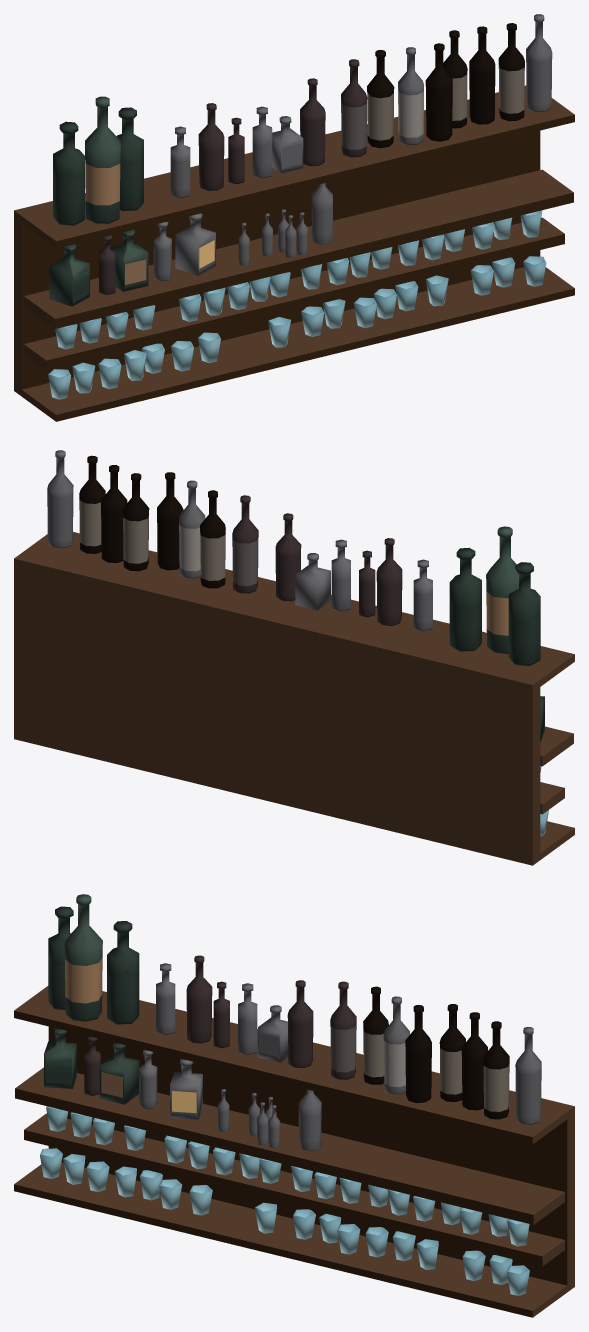
Rendered from Furnit Bar 2 3M.glb.
The picture shows the model from 3 angles, top to bottom: view 1: azimuth 30°, elevation 25°; view 2: azimuth 150°, elevation 25°; view 3: azimuth 330°, elevation 25°; orthographic projection.
Parts seen in each view (by area): view 1: Furnit Bar 2 3M; view 2: Furnit Bar 2 3M; view 3: Furnit Bar 2 3M.
Boxes of the visible parts, x1,y1,x2,y2 form: Furnit Bar 2 3M: (14,14,574,421); Furnit Bar 2 3M: (14,450,574,865); Furnit Bar 2 3M: (14,894,574,1317).
Size of what is drawn, in the model's own units: 2.96 by 1.63 by 0.4175.
1 material, 1 textured.
